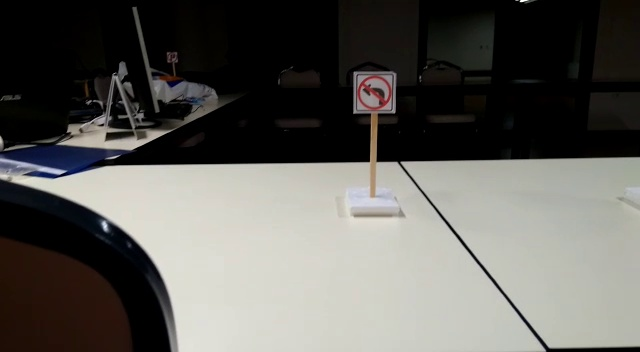sola_donulmez: (349, 74, 395, 117)
